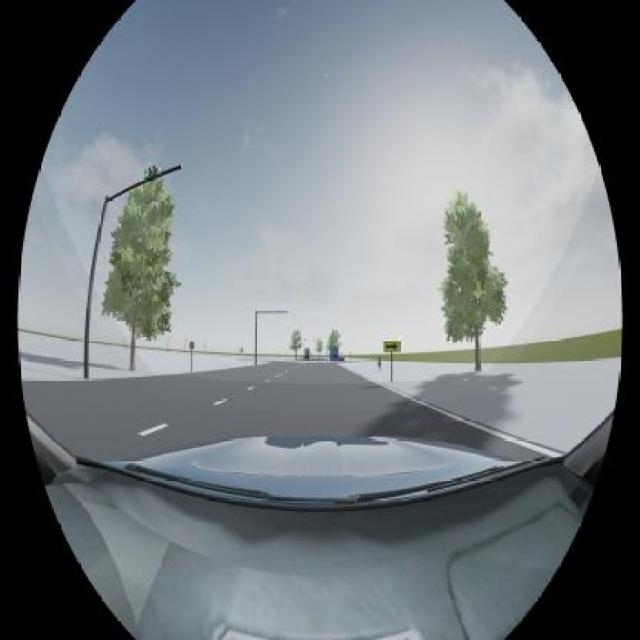forb_speed_over_30: (189, 341, 194, 348)
